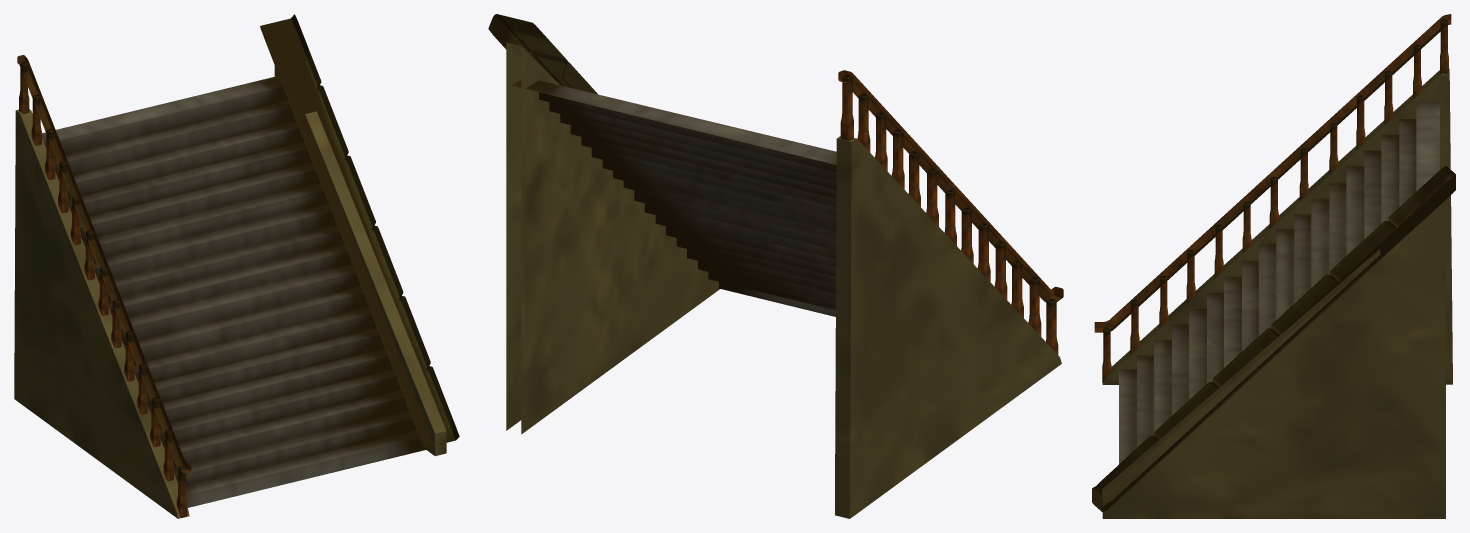
Rendered from Library_Ladder2.fbx.
3 renders of one model, left to right at view 1: azimuth 30°, elevation 25°; view 2: azimuth 150°, elevation 25°; view 3: azimuth 270°, elevation 25°, orthographic. The views are drawn at different scales.
Visible parts, largest first — view 1: Library_Ladder2; view 2: Library_Ladder2; view 3: Library_Ladder2.
Boxes of the visible parts, x1,y1,x2,y2 form: Library_Ladder2: (14,14,459,518); Library_Ladder2: (488,14,1063,518); Library_Ladder2: (1092,14,1455,518).
Bounding box in the file's own units: 444 × 521 × 468.
1 material, 1 textured.
